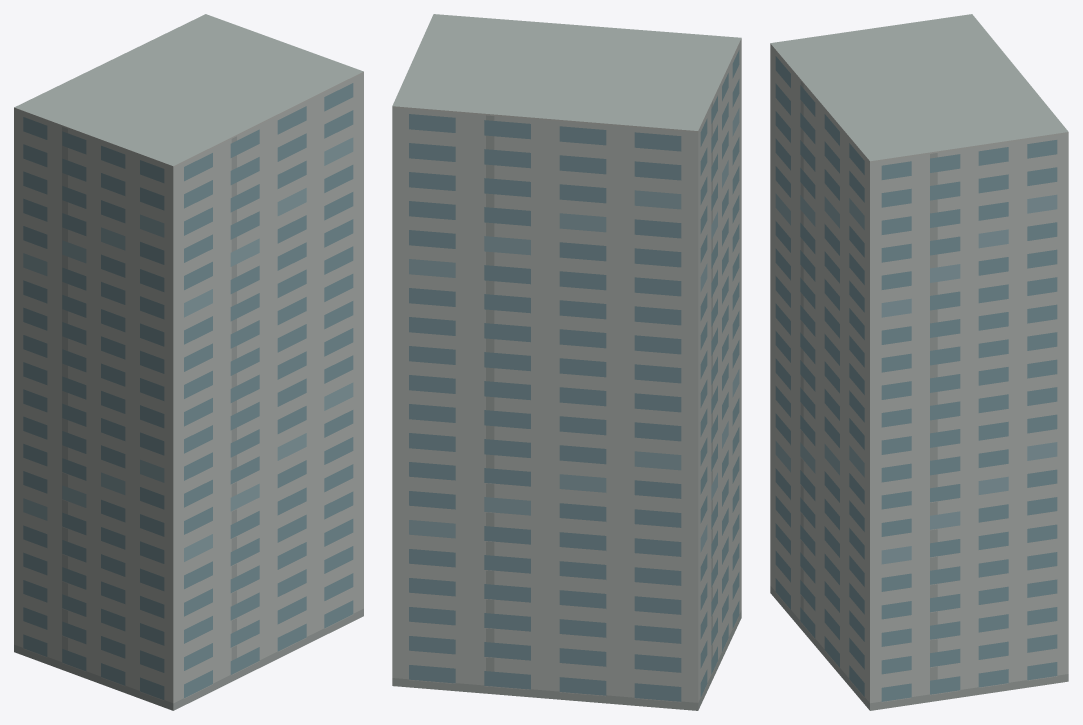
File: survey-upis-32769745.glb
3 renders of one model, left to right at view 1: azimuth 30°, elevation 25°; view 2: azimuth 150°, elevation 25°; view 3: azimuth 270°, elevation 25°, orthographic. The views are drawn at different scales.
Visible parts, largest first — view 1: survey-upis-32769745.tmp; view 2: survey-upis-32769745.tmp; view 3: survey-upis-32769745.tmp.
Part boxes in pixels (x1,y1,x2,y2): survey-upis-32769745.tmp: (14, 14, 363, 710); survey-upis-32769745.tmp: (392, 14, 741, 710); survey-upis-32769745.tmp: (770, 14, 1068, 710).
Size of the model in its own units: 51.74 by 90 by 44.32.
